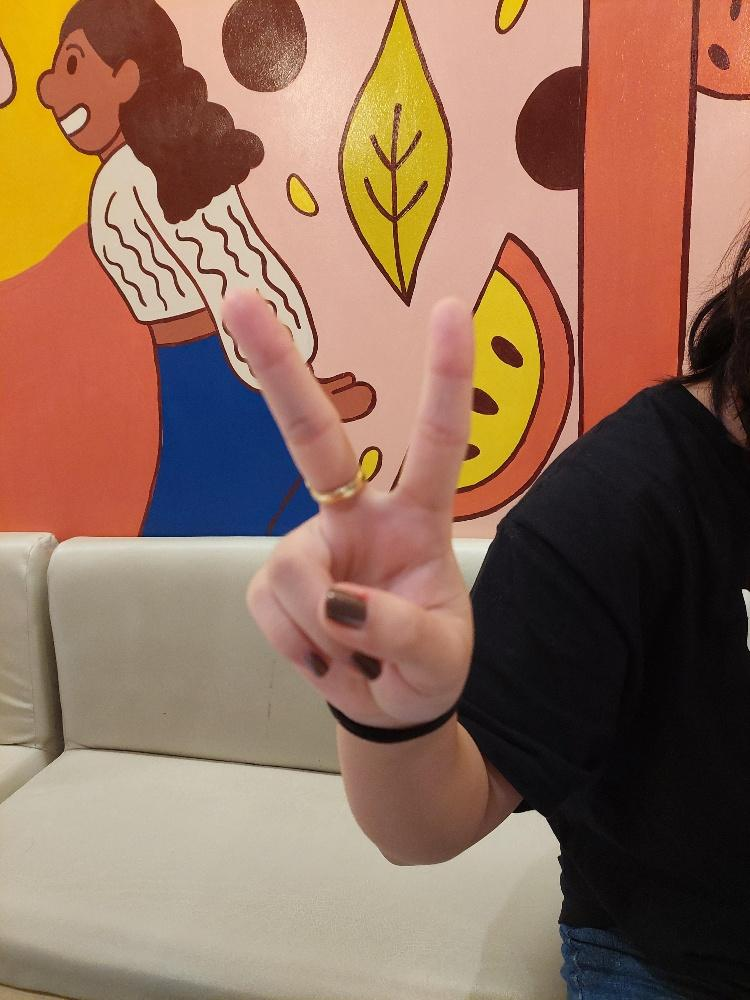v: (215, 280, 477, 727)
